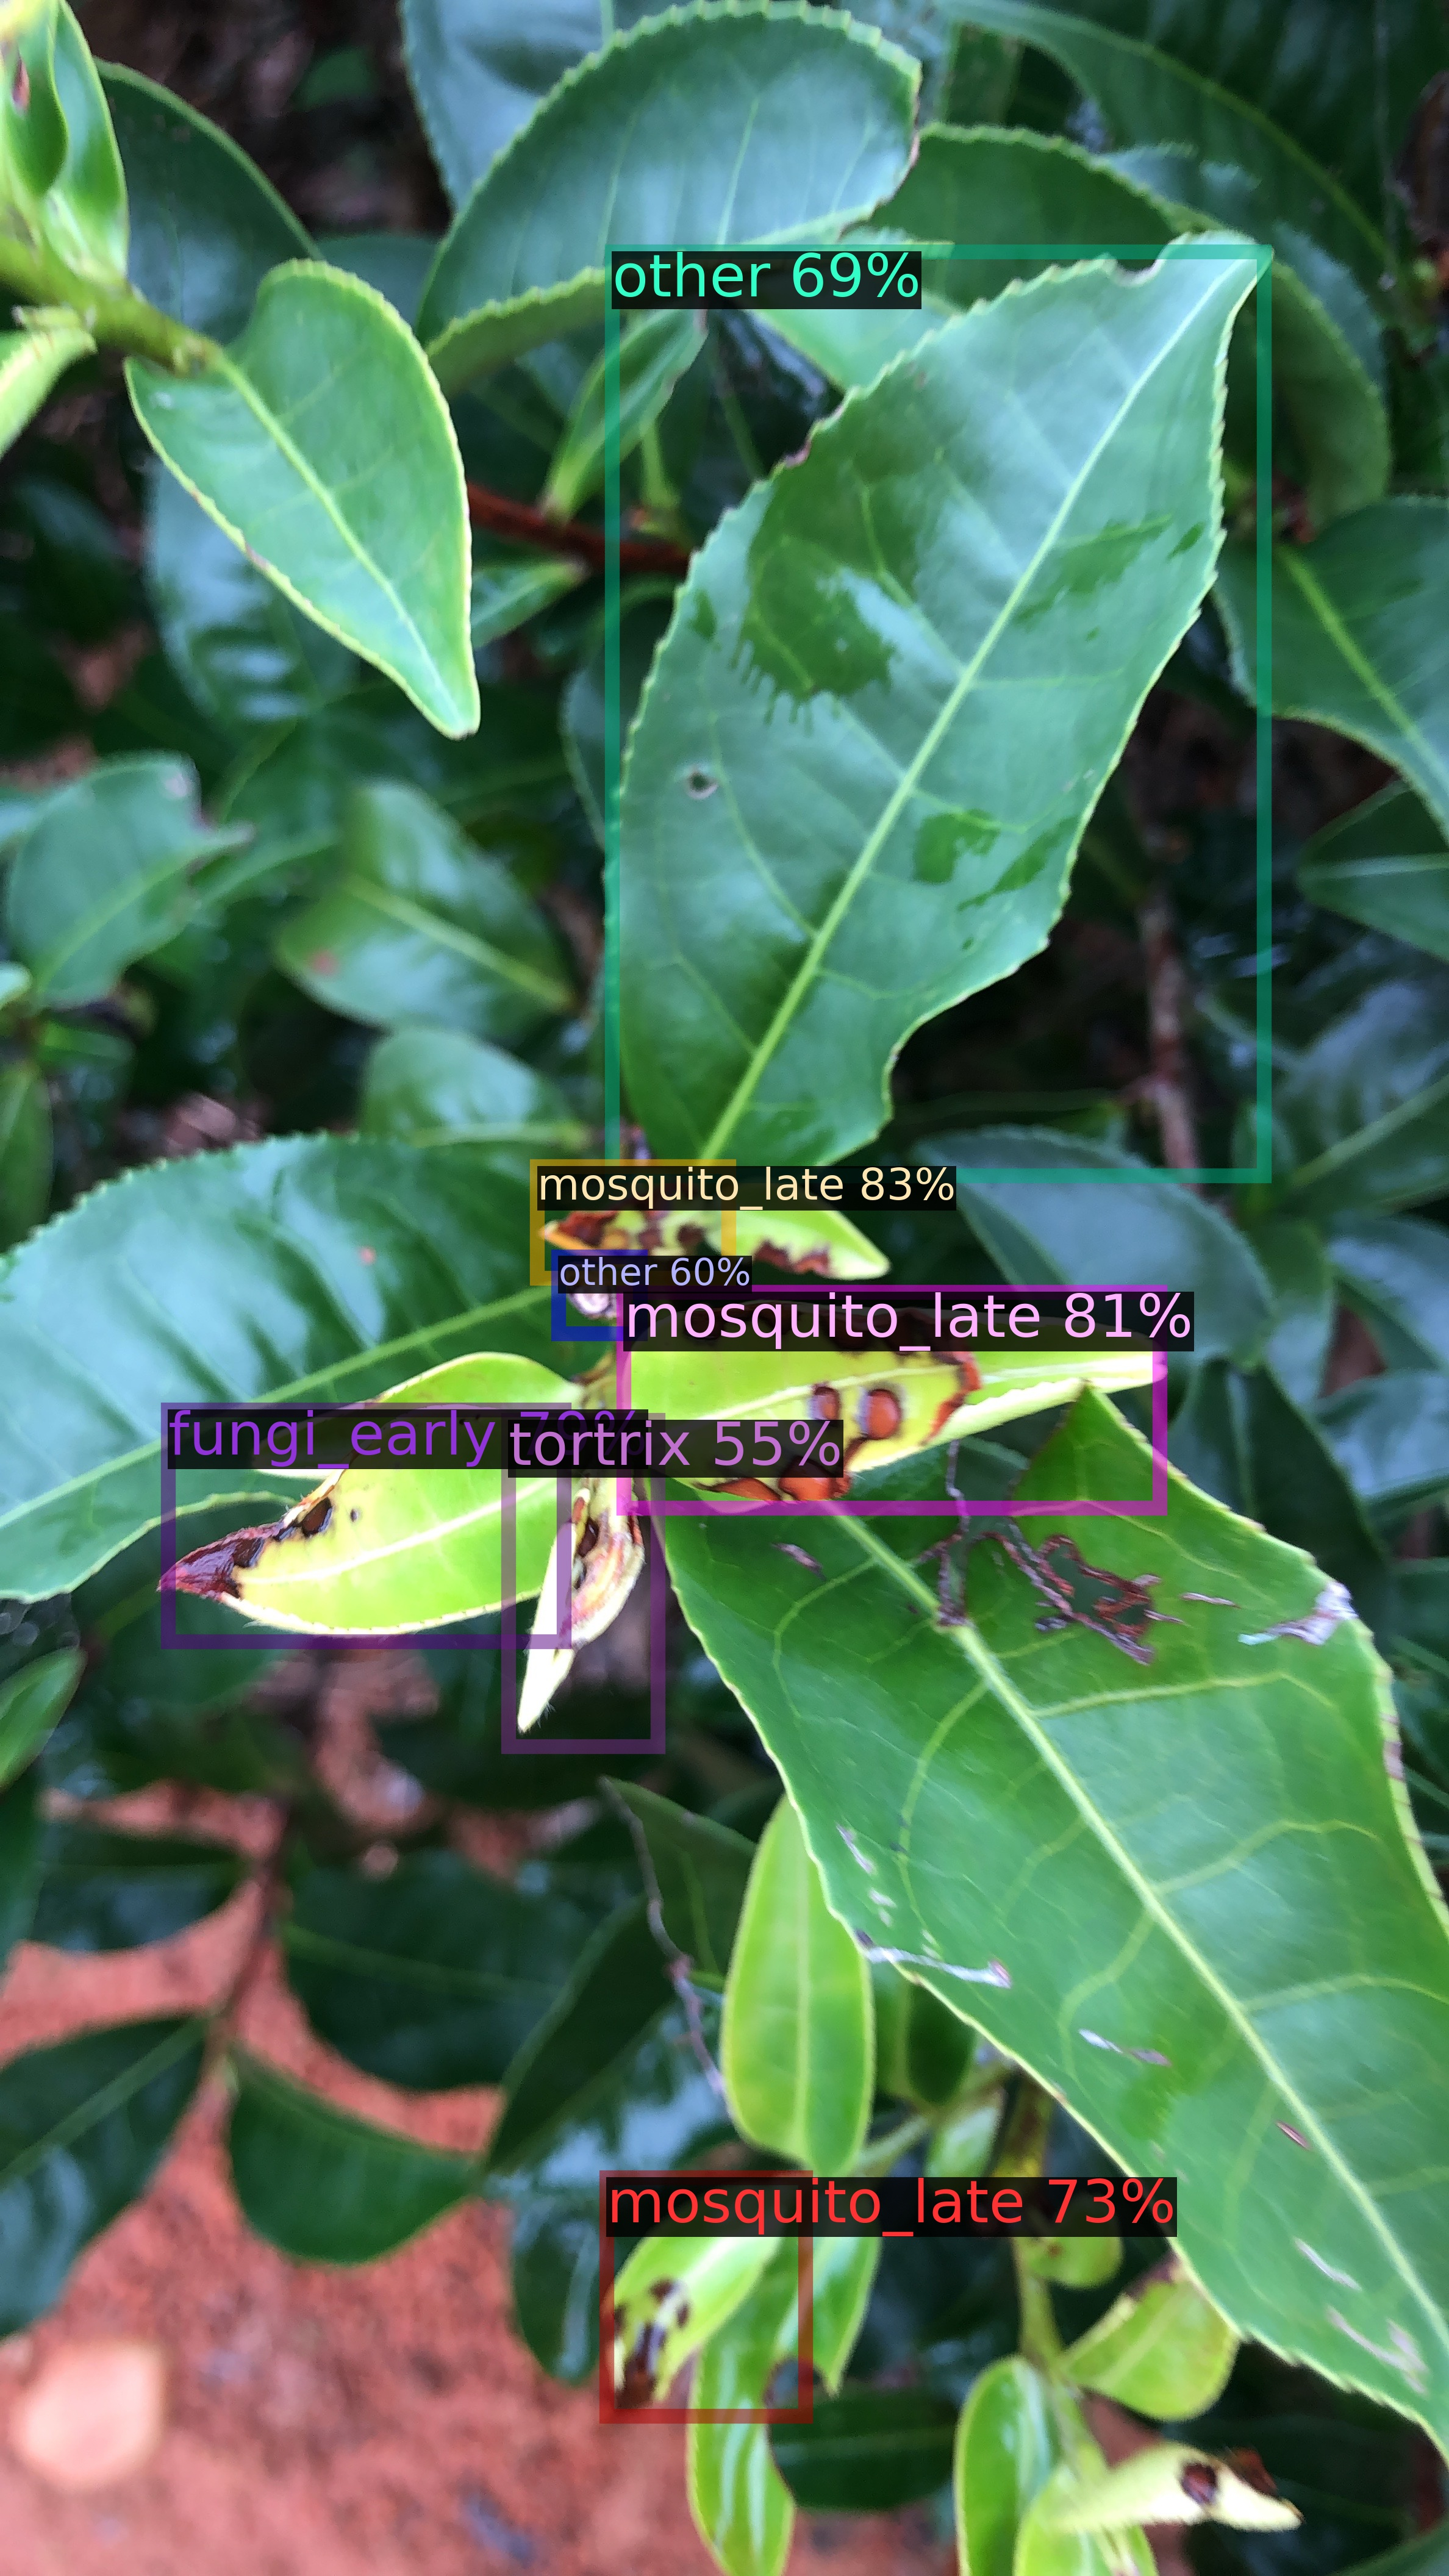fungi_early: (168, 1410, 563, 1642)
mosquito_late: (625, 1292, 1159, 1507), (607, 2178, 805, 2415), (538, 1166, 729, 1277)
other: (612, 251, 1263, 1177), (559, 1256, 640, 1334)
tortrix: (508, 1421, 658, 1746)
